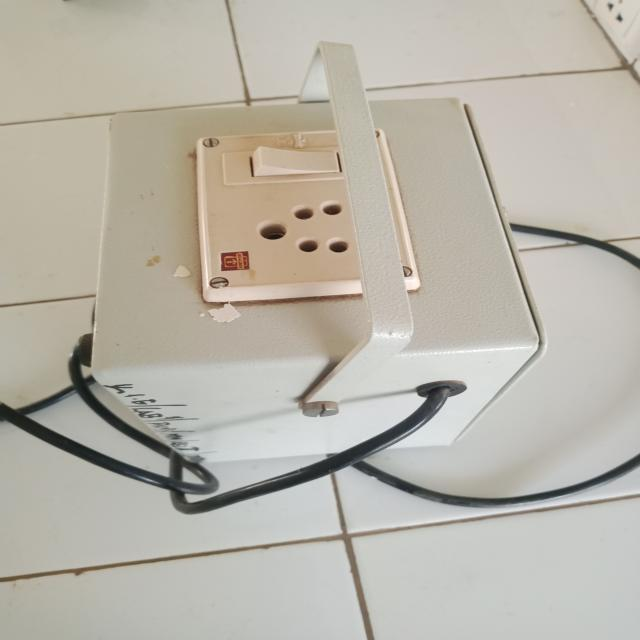Auto Variac AC Transformer 0-280 V: (82, 46, 534, 464)
